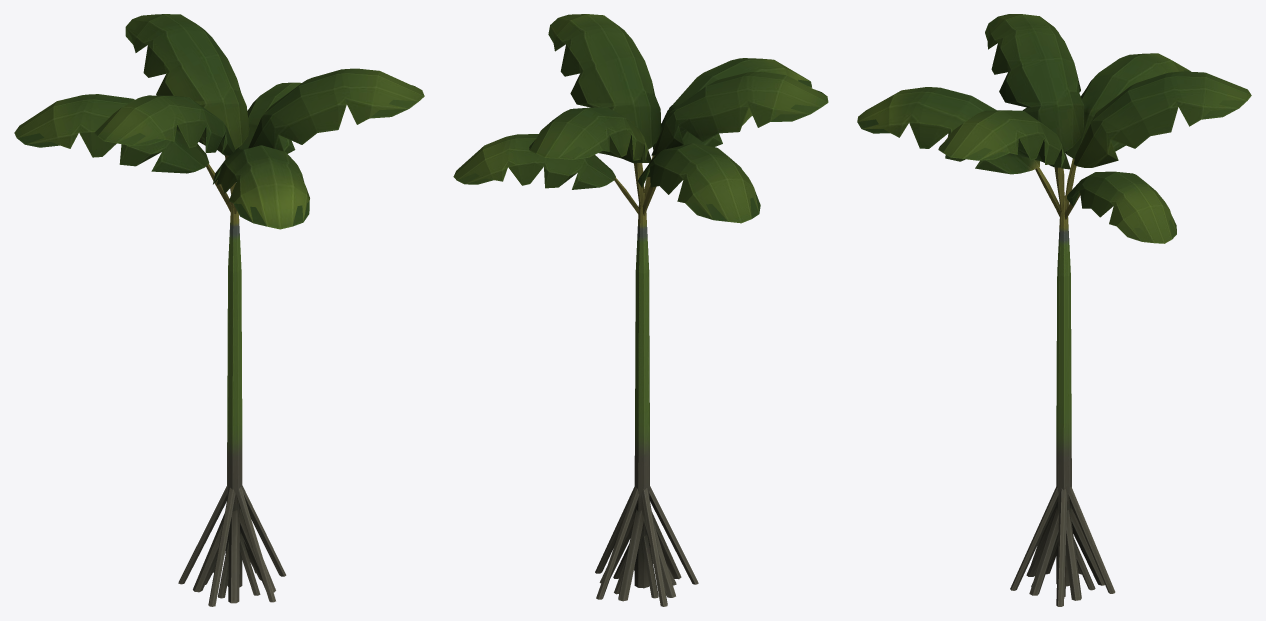
The model's file is Tree-Palm-Versch-Low-Poly-GB.fbx.
The picture shows the model from 3 angles, left to right: view 1: azimuth 30°, elevation 25°; view 2: azimuth 150°, elevation 25°; view 3: azimuth 270°, elevation 25°; orthographic projection.
Parts seen in each view (by area): view 1: VerschaffeltiaPalmTree; view 2: VerschaffeltiaPalmTree; view 3: VerschaffeltiaPalmTree.
Boxes of the visible parts, bbox=[...] form: VerschaffeltiaPalmTree: bbox=[14, 14, 424, 606]; VerschaffeltiaPalmTree: bbox=[453, 14, 828, 606]; VerschaffeltiaPalmTree: bbox=[857, 14, 1251, 606].
Bounding box in the file's own units: 163 × 268 × 187.
1 material, 1 textured.
